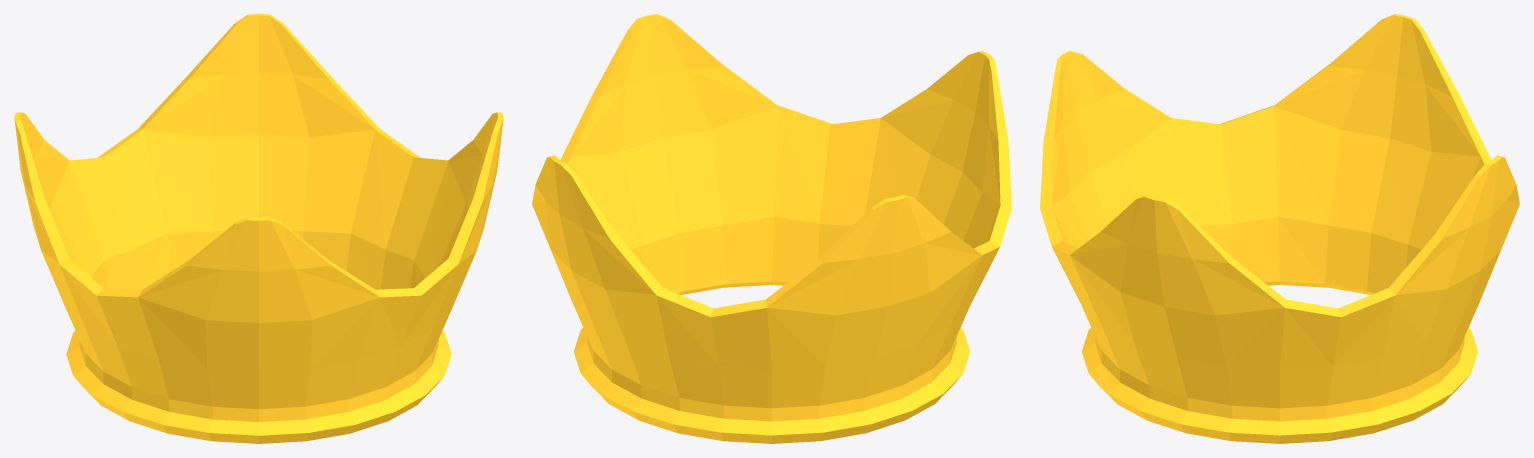
The model's file is crown.glb.
3 views of the same model, side by side, from view 1: azimuth 30°, elevation 25°; view 2: azimuth 150°, elevation 25°; view 3: azimuth 270°, elevation 25° (orthographic). The views are drawn at different scales.
Parts seen in each view (by area): view 1: Crown; view 2: Crown; view 3: Crown.
Part boxes in pixels (bbox=[...]): Crown: bbox=[14, 14, 503, 443]; Crown: bbox=[532, 14, 1011, 443]; Crown: bbox=[1040, 14, 1519, 443].
Bounding box in the file's own units: 83.15 × 49.2 × 83.15.
